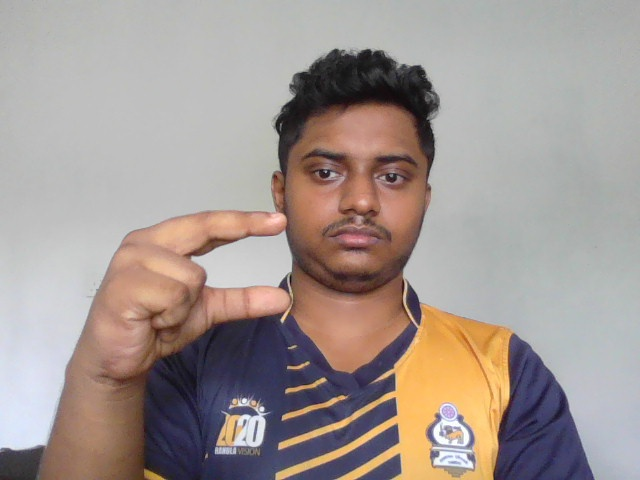No: (72, 206, 292, 378)
